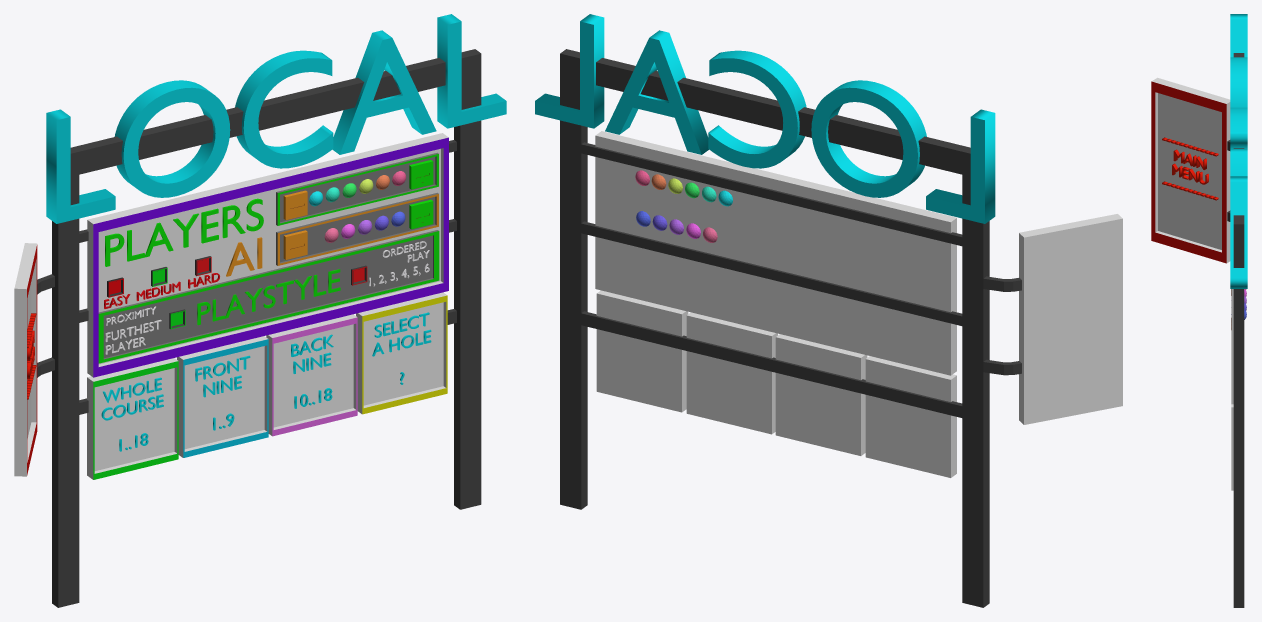
Rendered from menu_local.glb.
3 renders of one model, left to right at view 1: azimuth 30°, elevation 25°; view 2: azimuth 150°, elevation 25°; view 3: azimuth 270°, elevation 25°, orthographic. The views are drawn at different scales.
Visible parts, largest first — view 1: sign_body, player_sgn, local, playstyle_selection_board, map_set_front_nine_board, map_set_select_a_hole_board, map_set_whole_course_board, map_set_back_nine_board, main_menu_board, ai_count_border, player_count_border, players_text (+6 smaller); view 2: player_sgn, sign_body, local, main_menu_board, map_set_whole_course_board, map_set_select_a_hole_board, map_set_front_nine_board, map_set_back_nine_board; view 3: main_menu_board, sign_body, local, main_menu_text, player_sgn, map_set_select_a_hole_board.
Part boxes in pixels (x1,y1,x2,y2): sign_body: [37, 49, 481, 607]; player_sgn: [87, 133, 448, 377]; local: [46, 14, 506, 223]; playstyle_selection_board: [98, 230, 439, 363]; map_set_front_nine_board: [177, 336, 268, 457]; map_set_select_a_hole_board: [356, 292, 447, 414]; map_set_whole_course_board: [87, 358, 178, 479]; map_set_back_nine_board: [266, 314, 357, 436]; main_menu_board: [14, 243, 37, 476]; ai_count_border: [276, 192, 438, 265]; player_count_border: [276, 152, 438, 225]; players_text: [105, 198, 263, 266]; player_sgn: [595, 131, 956, 375]; sign_body: [560, 49, 1021, 607]; local: [535, 14, 995, 223]; main_menu_board: [1019, 214, 1122, 424]; map_set_whole_course_board: [865, 356, 956, 477]; map_set_select_a_hole_board: [596, 290, 688, 412]; map_set_front_nine_board: [775, 334, 867, 455]; map_set_back_nine_board: [686, 312, 777, 434]; main_menu_board: [1151, 77, 1230, 263]; sign_body: [1227, 53, 1244, 607]; local: [1230, 14, 1247, 288]; main_menu_text: [1162, 137, 1218, 200]; player_sgn: [1231, 289, 1233, 404]; map_set_select_a_hole_board: [1231, 404, 1233, 490].
Size of the model in its own units: 48.68 by 42.73 by 8.92.
